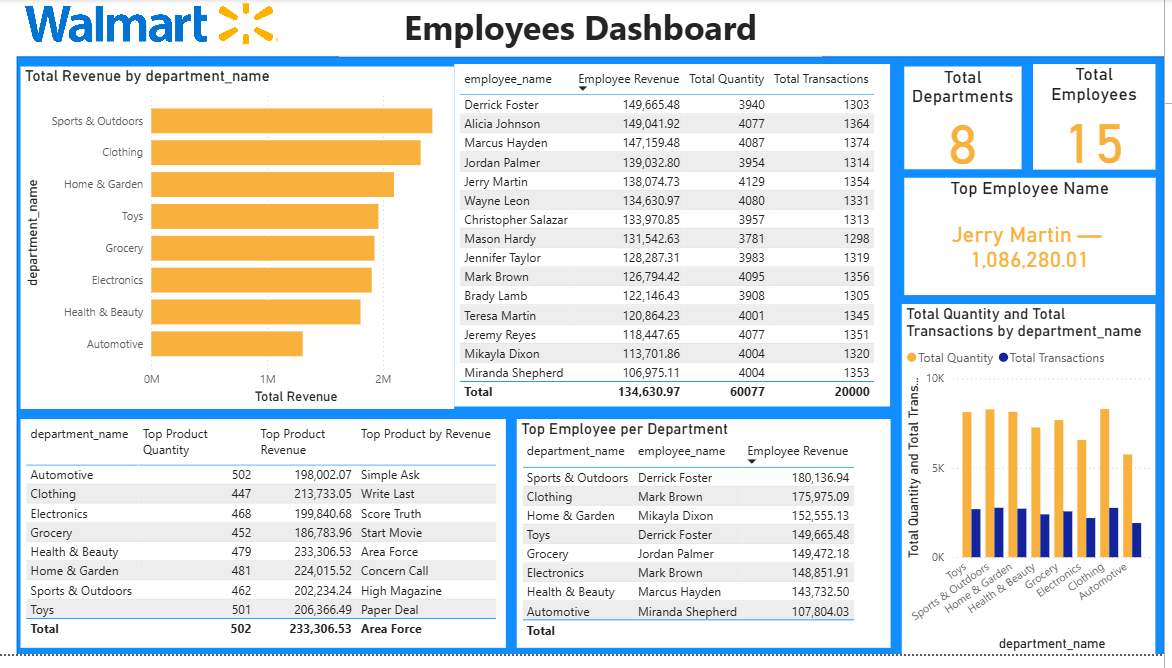

This screenshot's page, from the dashboard's own definition file:
{"tool":"powerbi","page":{"name":"Employees","canvas":[1280,720],"ordinal":5},"visuals":[{"type":"shape","box":[20,62.9,1260,657.1],"z":0},{"type":"image","box":[24.9,0,288.6,54.7],"z":1000},{"type":"textbox","box":[374.4,0,529.9,63.4],"z":2000},{"type":"card","title":"Total Departments","fields":{"Values":["Count(FactSales.department_name)"]},"box":[994.3,74.3,128.6,112.9],"z":2001},{"type":"card","title":"Total Employees","fields":{"Values":["Count(FactSales.employee_id)"]},"box":[1135.7,71.4,134.3,115.7],"z":2002},{"type":"clusteredColumnChart","fields":{"Category":["FactSales.department_name"],"Y":["FactSales.Total Quantity","FactSales.Total Transactions"]},"box":[991.4,334.3,278.6,385.7],"z":2004},{"type":"card","title":"Top Employee Name","fields":{"Values":["FactSales.Top Employee Display"]},"box":[994.3,195.7,275.7,128.6],"z":2005},{"type":"tableEx","fields":{"Values":["FactSales.employee_name","FactSales.Employee Revenue","FactSales.Total Quantity","FactSales.Total Transactions"]},"box":[501.4,71.4,478.6,375.7],"z":2006},{"type":"clusteredBarChart","fields":{"Category":["FactSales.department_name"],"Y":["FactSales.Total Revenue"]},"box":[24.3,74.3,475.7,375.7],"z":2007},{"type":"tableEx","fields":{"Values":["FactSales.department_name","FactSales.Top Product Quantity","FactSales.Top Product Revenue","FactSales.Top Product by Revenue"]},"box":[24.3,461.4,532.9,251.4],"z":2008},{"type":"tableEx","title":"Top Employee per Department","fields":{"Values":["FactSales.department_name","FactSales.employee_name","FactSales.Employee Revenue"]},"box":[570,461.4,410,251.4],"z":2009}]}

Visuals, with their boxes in screenshot pixels (x1, y1, x2, y2), scaled from the page's 1280x720 canvas onto the 1172x668 screenshot:
shape: locate(18, 58, 1171, 667)
image: locate(23, 0, 287, 51)
textbox: locate(343, 0, 828, 59)
"Total Departments" card: locate(910, 69, 1028, 174)
"Total Employees" card: locate(1040, 66, 1163, 174)
clusteredColumnChart - FactSales.department_name x FactSales.Total Quantity: locate(908, 310, 1163, 667)
"Top Employee Name" card: locate(910, 182, 1163, 301)
tableEx - FactSales.employee_name x FactSales.Employee Revenue: locate(459, 66, 897, 415)
clusteredBarChart - FactSales.department_name x FactSales.Total Revenue: locate(22, 69, 458, 418)
tableEx - FactSales.department_name x FactSales.Top Product Quantity: locate(22, 428, 510, 661)
"Top Employee per Department" tableEx: locate(522, 428, 897, 661)
